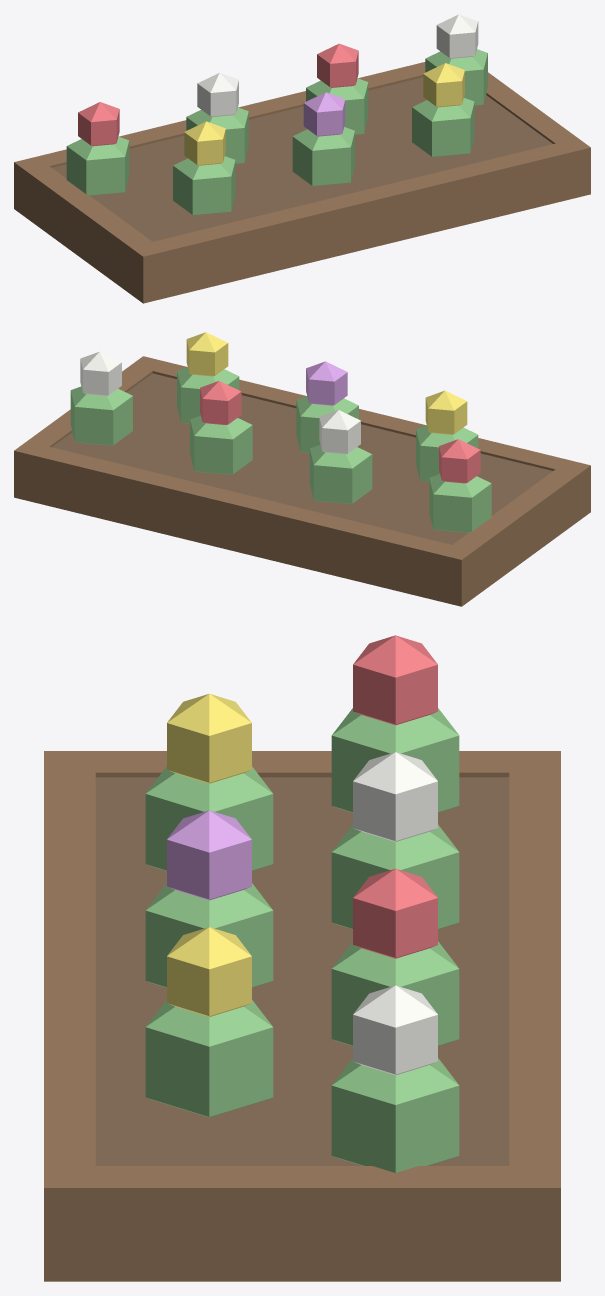
Rendered from flower_bed.glb.
3 views of the same model, one above another, from view 1: azimuth 30°, elevation 25°; view 2: azimuth 150°, elevation 25°; view 3: azimuth 270°, elevation 25° (orthographic). The views are drawn at different scales.
Visible parts, largest first — view 1: bed, leaves, flowers; view 2: bed, leaves, flowers; view 3: bed, leaves, flowers.
Part boxes in pixels (x1,y1,x2,y2): bed: (14,62,590,303); leaves: (66,49,487,215); flowers: (78,14,478,165); bed: (14,356,590,606); leaves: (70,367,491,532); flowers: (80,332,480,483); bed: (44,751,560,1281); leaves: (145,708,459,1172); flowers: (167,635,437,1075).
Bounding box in the file's own units: 2 × 0.54 × 1.
